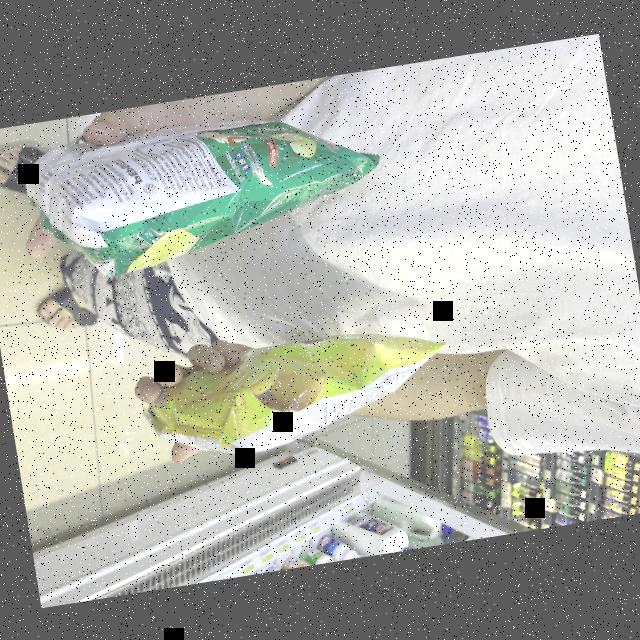snack_bag: (13, 89, 394, 278), (135, 302, 466, 474)
